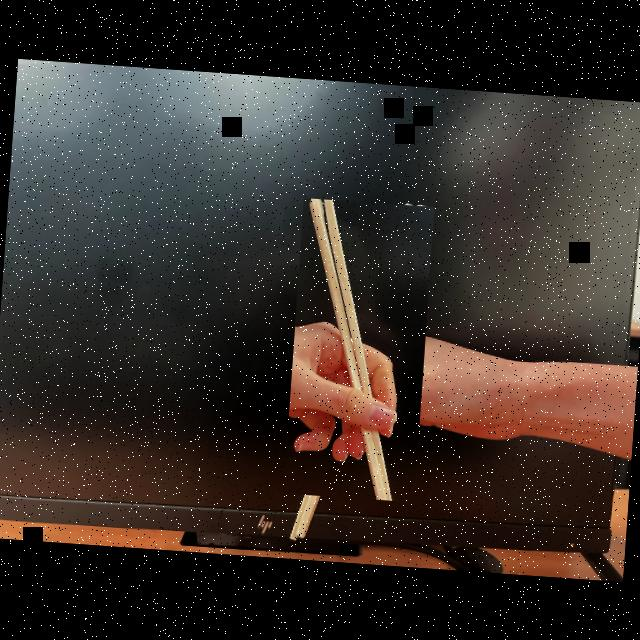stick: (283, 198, 433, 502)
